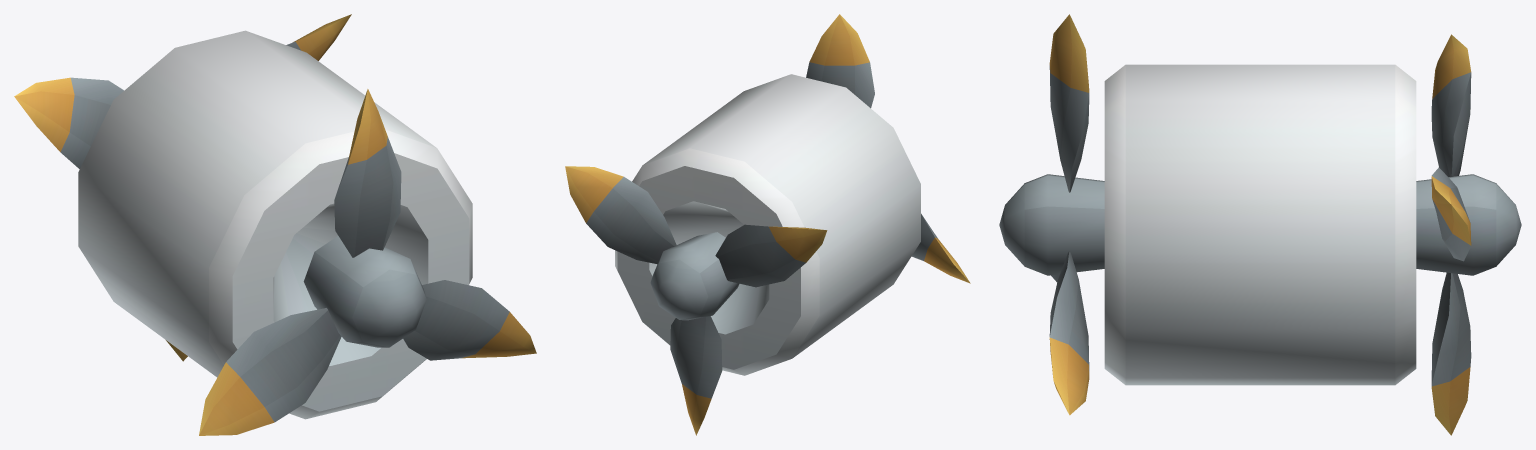
The model's file is windturbine_low_fan.glb.
3 views of the same model, side by side, from view 1: azimuth 30°, elevation 25°; view 2: azimuth 150°, elevation 25°; view 3: azimuth 270°, elevation 25° (orthographic). The views are drawn at different scales.
Parts seen in each view (by area): view 1: windturbine_low_fan_Cylinder.2740; view 2: windturbine_low_fan_Cylinder.2740; view 3: windturbine_low_fan_Cylinder.2740.
Boxes of the visible parts, <box> form: windturbine_low_fan_Cylinder.2740: <box>14,14,536,435</box>; windturbine_low_fan_Cylinder.2740: <box>565,14,970,435</box>; windturbine_low_fan_Cylinder.2740: <box>999,14,1521,435</box>.
Bounding box in the file's own units: 0.9961 × 1.15 × 1.29.
Materials: 1 (1 with a texture image).
